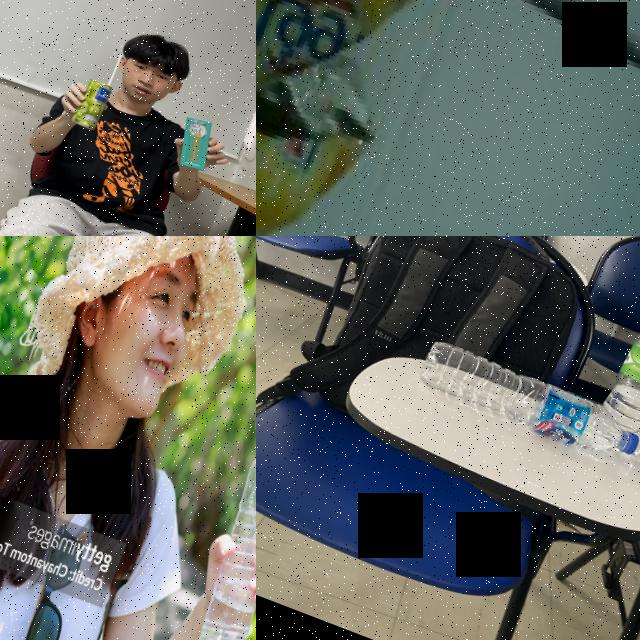bottle: (412, 336, 640, 470), (175, 416, 256, 640), (587, 299, 640, 469)
can: (70, 76, 114, 133)
